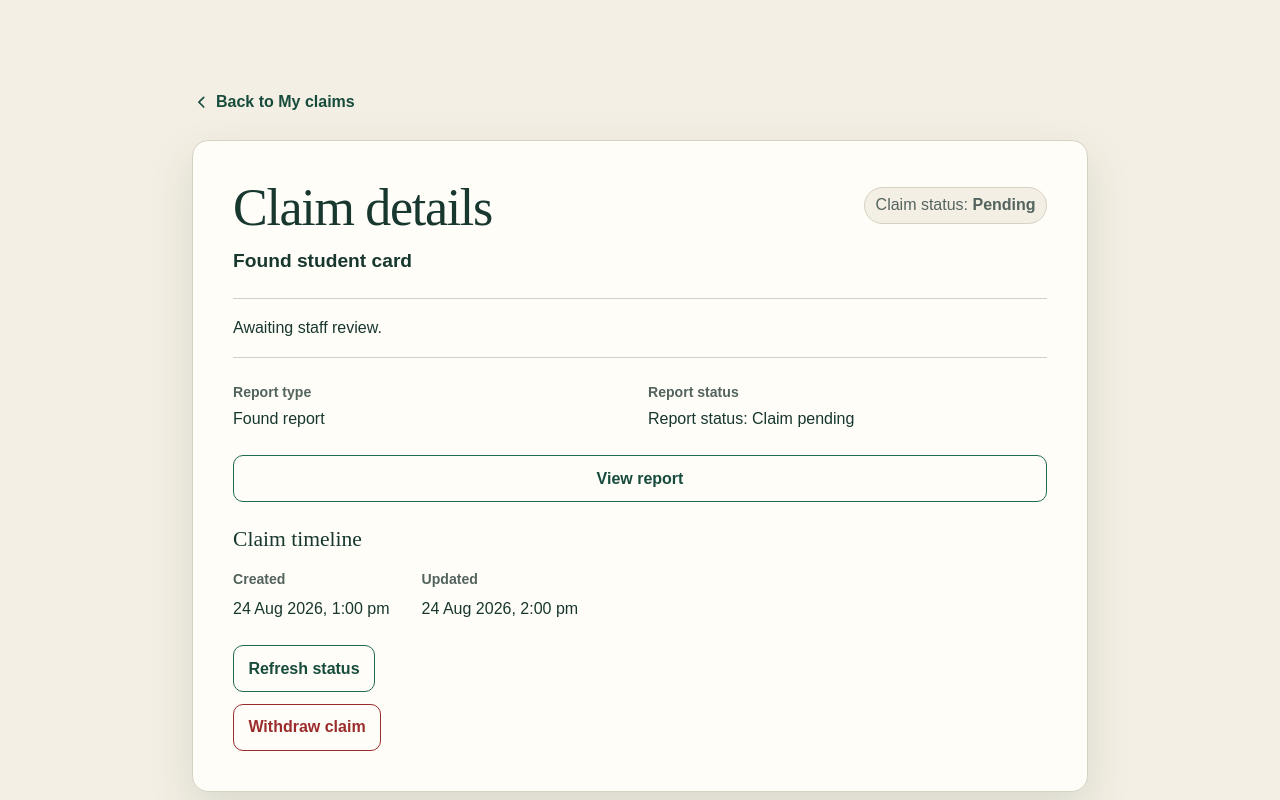
Test: ClaimDetailClient withdrawal › opens adjacent confirmation and Keep claim cancels without a request
The image size is (1280, 800).
Click the button "Withdraw claim": [307, 727] box [233,704,381,751]
(page scrolled)
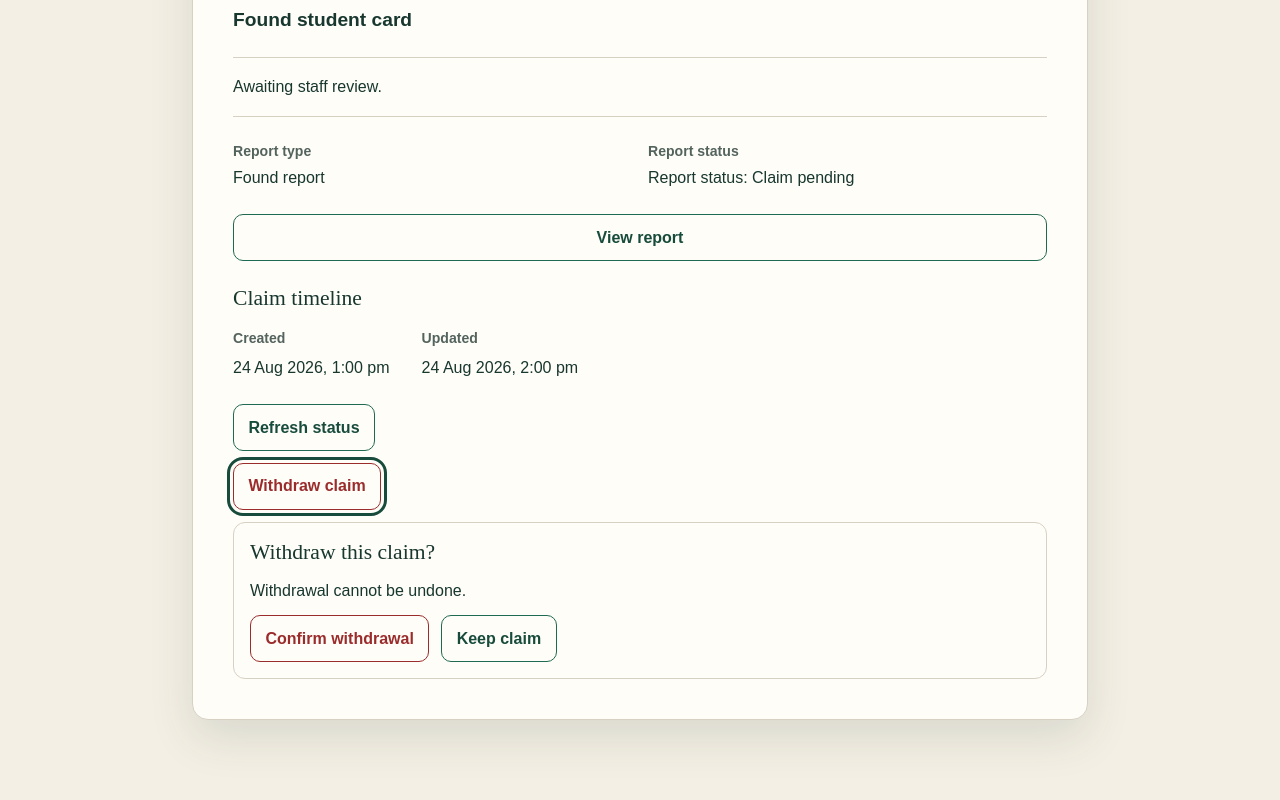
Check: the text "Withdrawal cannot be undone." is shown, box [250,582,466,599]
Click the button "Keep claim": [499, 639] box [441,615,556,662]
(page scrolled)
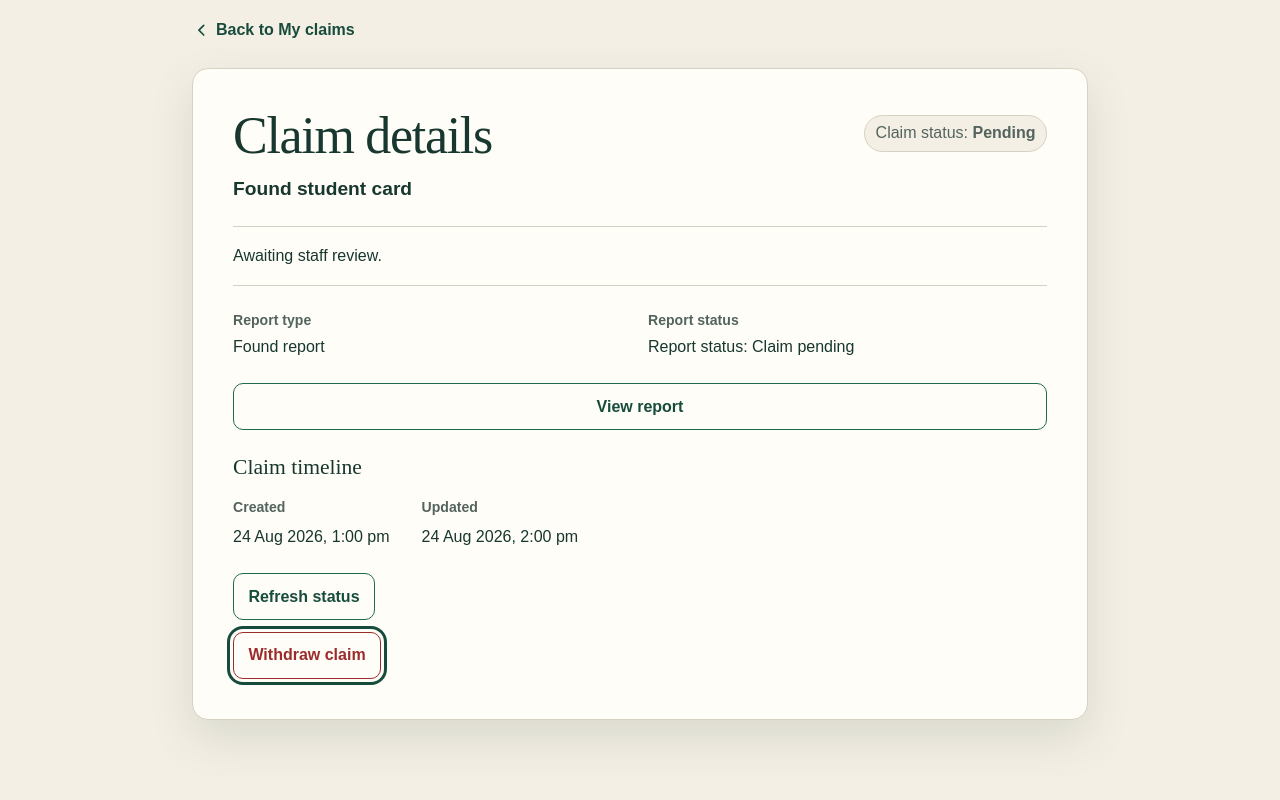
Check: the heading "Withdraw this claim?" is gone
